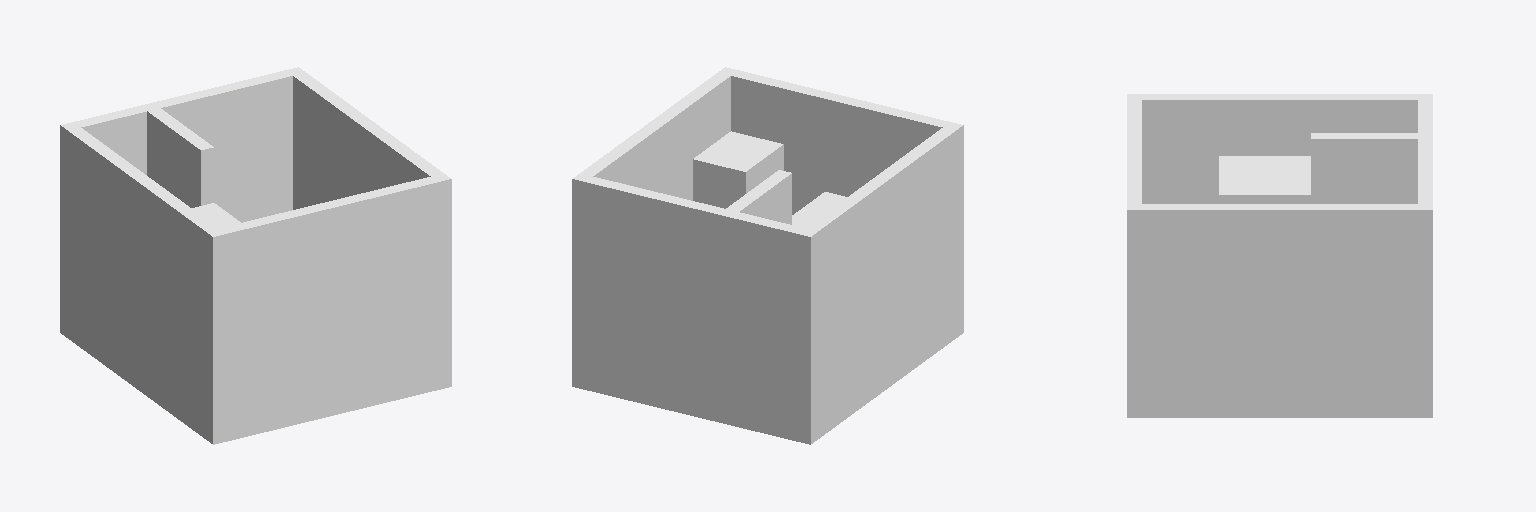
The model's file is LevelGeom.obj.
3 views of the same model, side by side, from view 1: azimuth 30°, elevation 25°; view 2: azimuth 150°, elevation 25°; view 3: azimuth 270°, elevation 25° (orthographic).
Visible parts, largest first — view 1: LevelGeom; view 2: LevelGeom; view 3: LevelGeom.
Boxes of the visible parts, box(x1,y1,x2,y2) form: LevelGeom: box(60, 67, 451, 444); LevelGeom: box(572, 67, 963, 444); LevelGeom: box(1127, 94, 1432, 417).
Size of the model in its own units: 18 by 15 by 20.